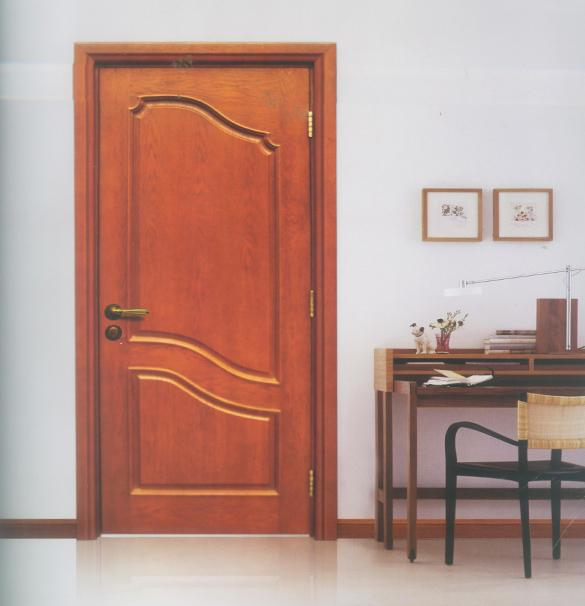door: (97, 56, 319, 535)
